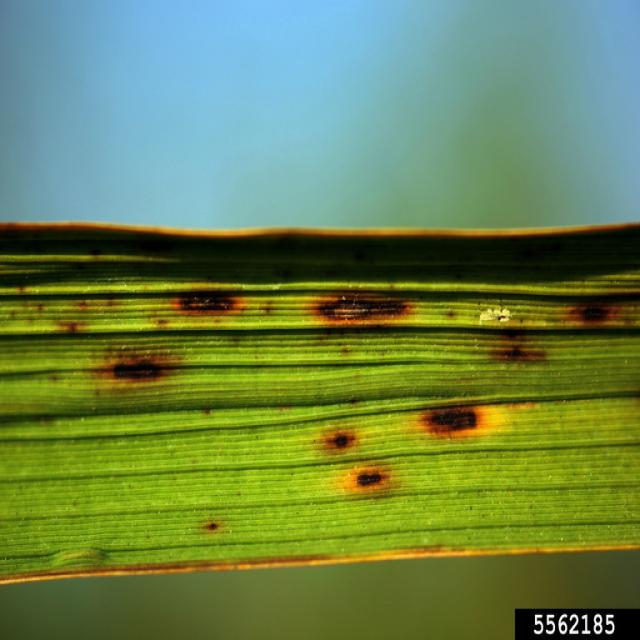Brown spot: (312, 279, 431, 331), (83, 335, 191, 392), (412, 390, 509, 450), (156, 276, 251, 322), (559, 284, 640, 328), (296, 413, 364, 458), (331, 458, 398, 501), (488, 337, 551, 373), (190, 500, 238, 545), (15, 271, 37, 312), (83, 244, 113, 273), (193, 401, 225, 428)
